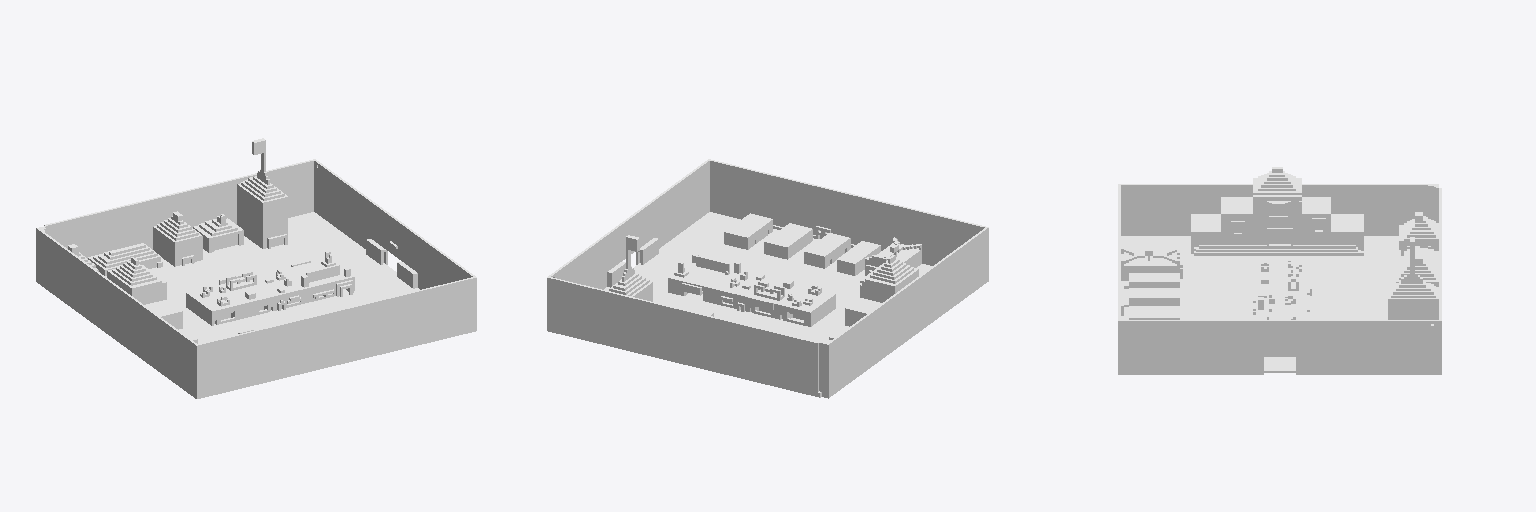
File: Village_1.obj
3 views of the same model, side by side, from view 1: azimuth 30°, elevation 25°; view 2: azimuth 150°, elevation 25°; view 3: azimuth 270°, elevation 25° (orthographic).
Parts seen in each view (by area): view 1: object 1; view 2: object 1; view 3: object 1.
Part boxes in pixels (bbox=[...]): object 1: bbox=[36, 138, 476, 398]; object 1: bbox=[547, 159, 988, 398]; object 1: bbox=[1118, 167, 1441, 374].
Size of the model in its own units: 12 by 4.1 by 12.